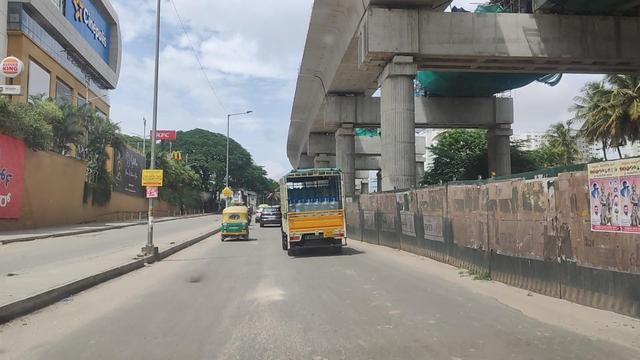HMV: (280, 164, 351, 260)
LMV: (220, 208, 253, 245)
